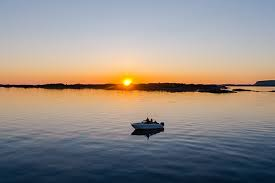boat: (129, 114, 165, 141)
